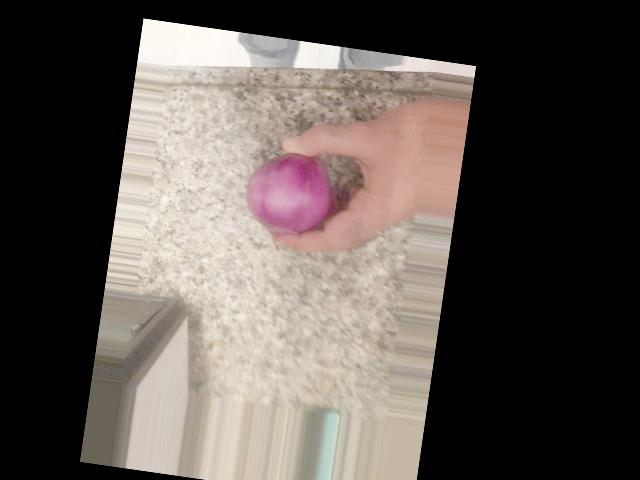onion: (145, 206, 243, 300)
